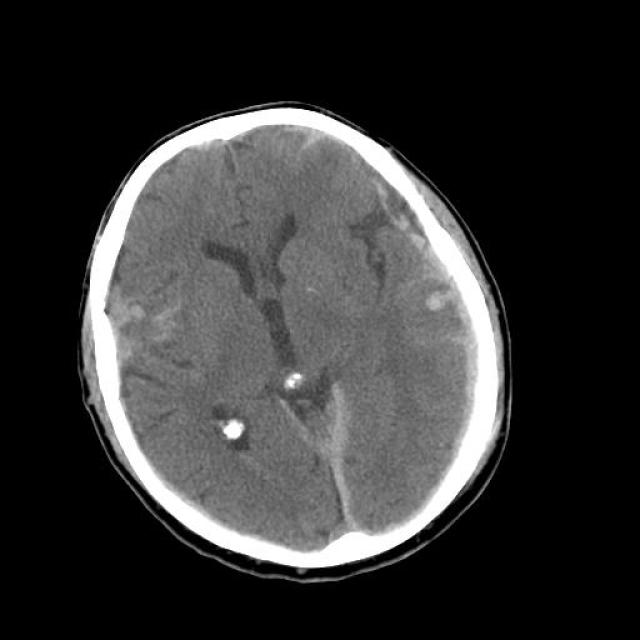Intraparenchymal: (96, 286, 200, 378)
Subarachnoid: (280, 125, 322, 171)
Subdural: (396, 208, 564, 508), (265, 361, 415, 564)
